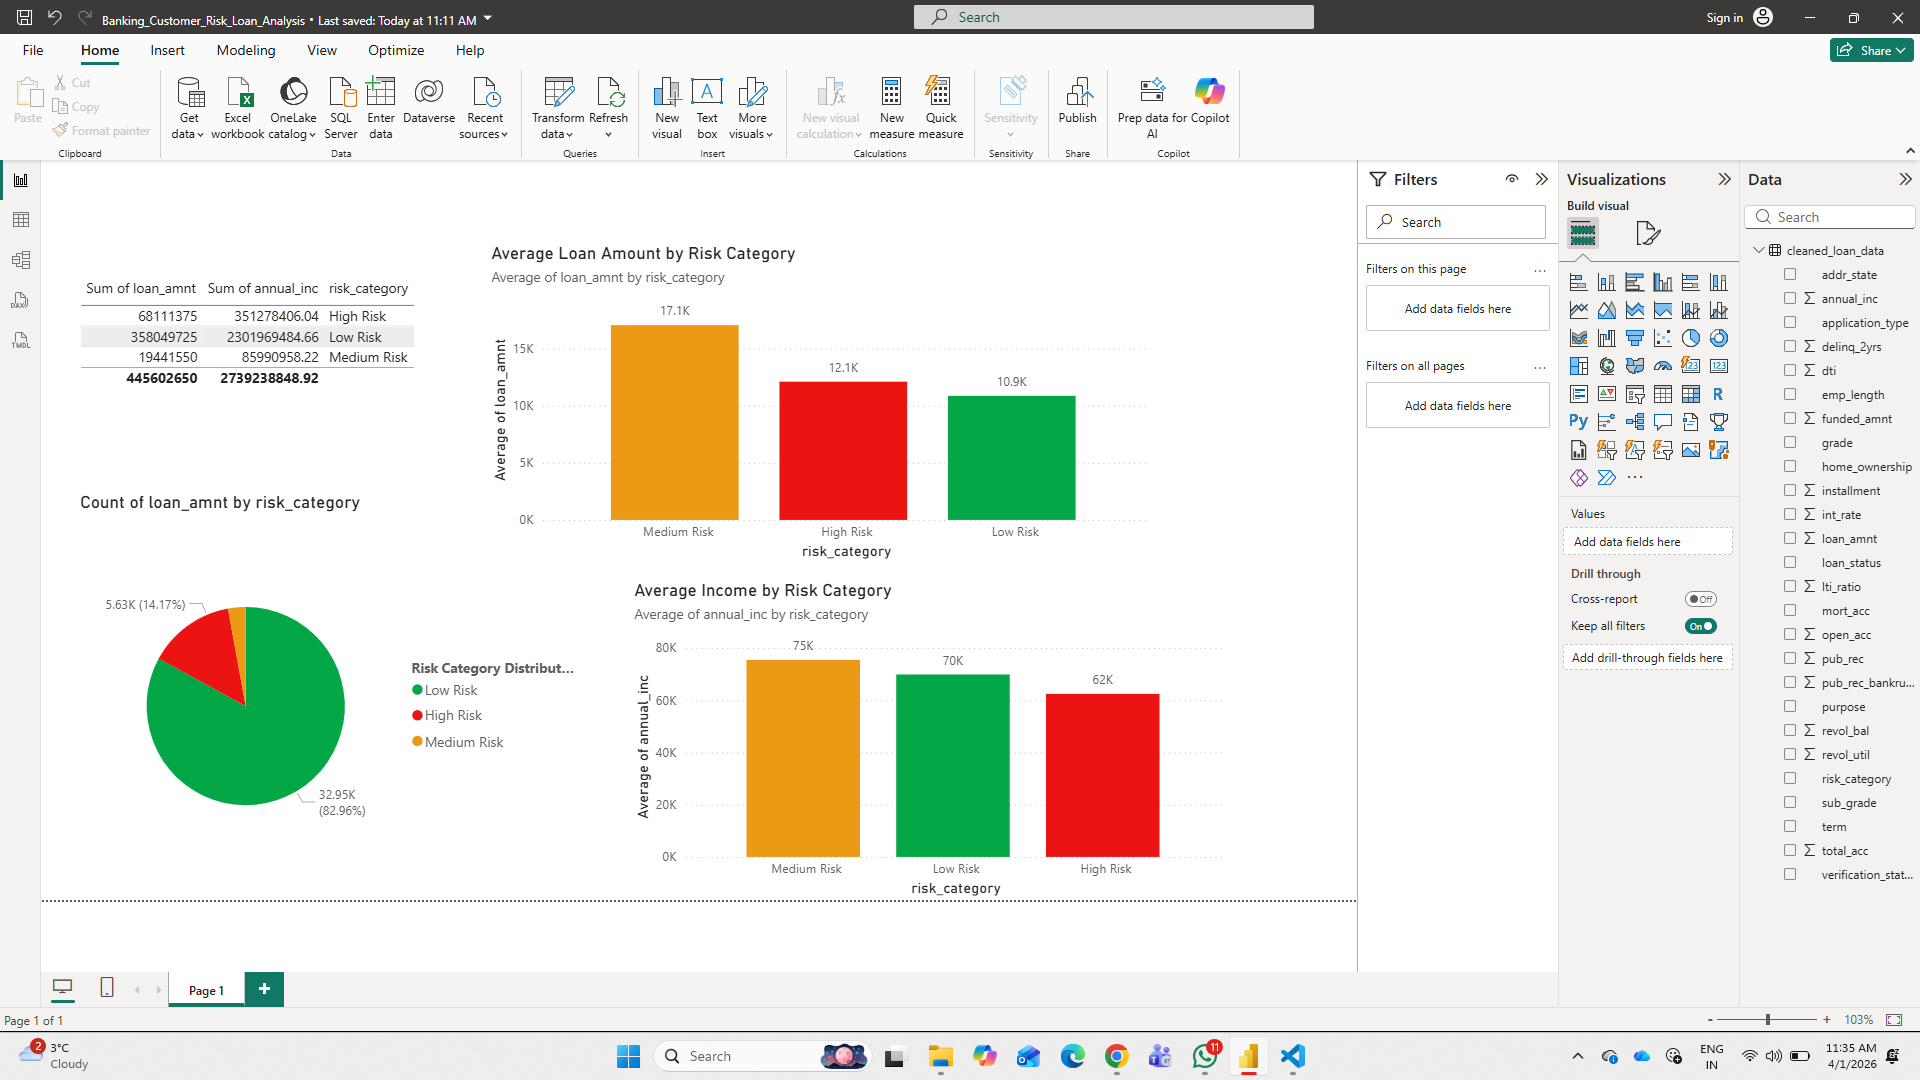

The dashboard page shown, as its layout file describes it:
{"tool":"powerbi","page":{"name":"Page 1","canvas":[1280,720],"ordinal":0},"visuals":[{"type":"pieChart","fields":{"Category":["cleaned_loan_data.risk_category"],"Y":["CountNonNull(cleaned_loan_data.loan_amnt)"]},"box":[32.8,323.3,487.1,397.5],"z":0},{"type":"clusteredColumnChart","title":"Average Income by Risk Category","fields":{"Category":["cleaned_loan_data.risk_category"],"Y":["Avg(cleaned_loan_data.annual_inc)"]},"box":[572.3,408.5,585.4,312.4],"z":1},{"type":"clusteredColumnChart","title":"Average Loan Amount by Risk Category","fields":{"Category":["cleaned_loan_data.risk_category"],"Y":["Avg(cleaned_loan_data.loan_amnt)"]},"box":[432.5,80.8,650.9,312.4],"z":2},{"type":"tableEx","fields":{"Values":["Sum(cleaned_loan_data.loan_amnt)","Sum(cleaned_loan_data.annual_inc)","cleaned_loan_data.risk_category"]},"box":[32.8,109.2,360.4,168.2],"z":3}]}

Visuals, with their boxes on the page's 1280x720 design canvas (x1, y1, x2, y2). These are canvas units, not pixel positions in the 1920x1080 screenshot, which may show the page scaled, cropped or inside an application window:
pieChart - cleaned_loan_data.risk_category x CountNonNull(cleaned_loan_data.loan_amnt): detection(33, 323, 520, 721)
"Average Income by Risk Category" clusteredColumnChart: detection(572, 408, 1158, 721)
"Average Loan Amount by Risk Category" clusteredColumnChart: detection(432, 81, 1083, 393)
tableEx - Sum(cleaned_loan_data.loan_amnt) x Sum(cleaned_loan_data.annual_inc): detection(33, 109, 393, 277)
